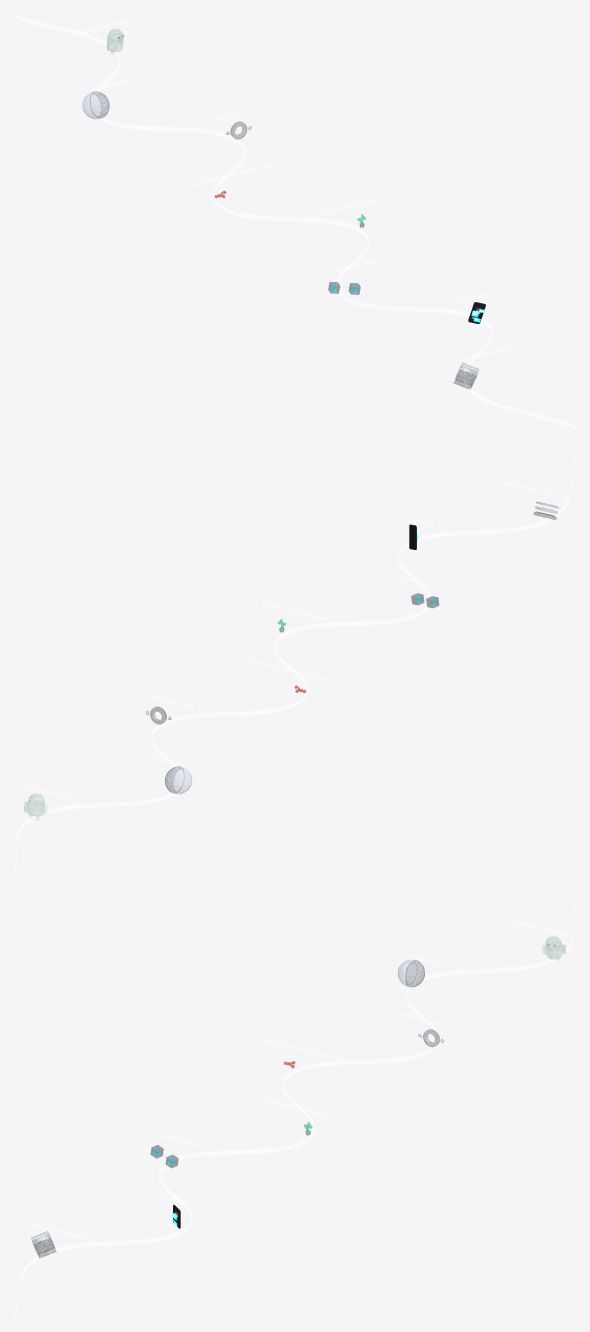
Rendered from portfolio_2nd_section.glb.
The picture shows the model from 3 angles, top to bottom: view 1: azimuth 30°, elevation 25°; view 2: azimuth 150°, elevation 25°; view 3: azimuth 330°, elevation 25°; orthographic projection.
Visible parts, largest first — view 1: SkillPath, tmpm4j0s85lobj; view 2: SkillPath, tmpm4j0s85lobj; view 3: SkillPath, tmpm4j0s85lobj.
Boxes of the visible parts, left/top/right/bottom form: SkillPath: left=14, top=14, right=575, bottom=429; tmpm4j0s85lobj: left=82, top=91, right=109, bottom=118; SkillPath: left=14, top=459, right=575, bottom=872; tmpm4j0s85lobj: left=165, top=766, right=192, bottom=793; SkillPath: left=14, top=903, right=575, bottom=1316; tmpm4j0s85lobj: left=397, top=960, right=424, bottom=987.
Size of what is drawn, in the model's own units: 9.59 by 2.33 by 73.
Materials: 15 (7 with a texture image).
